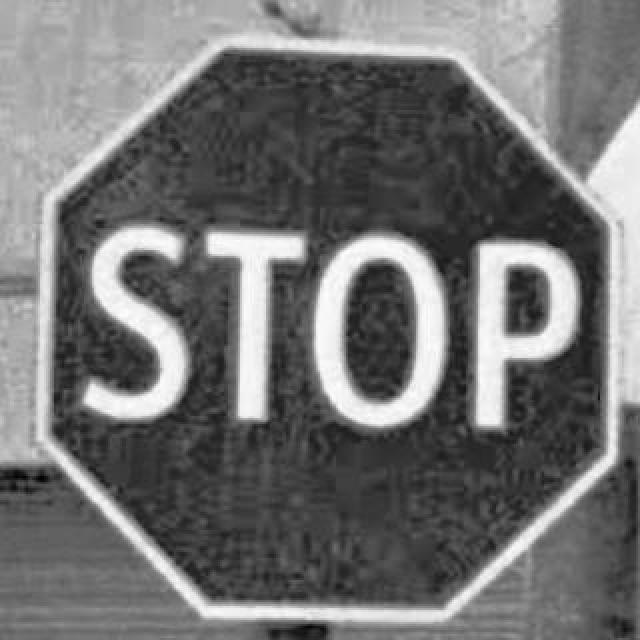stop: (36, 34, 622, 622)
